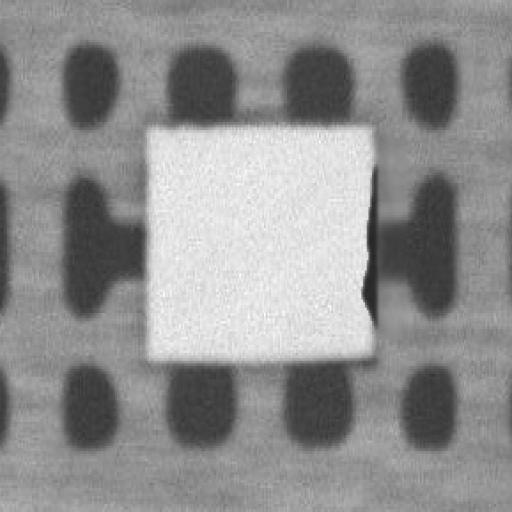DIE_BROKEN: (358, 159, 379, 326)
